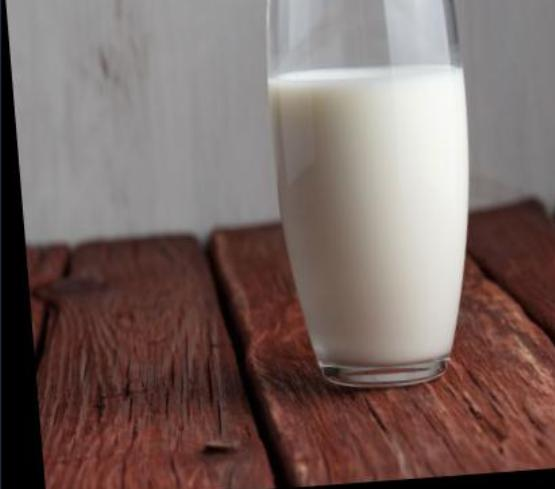produk_susu: (268, 2, 462, 381)
